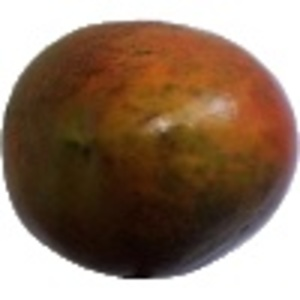manga: (1, 18, 300, 278)
